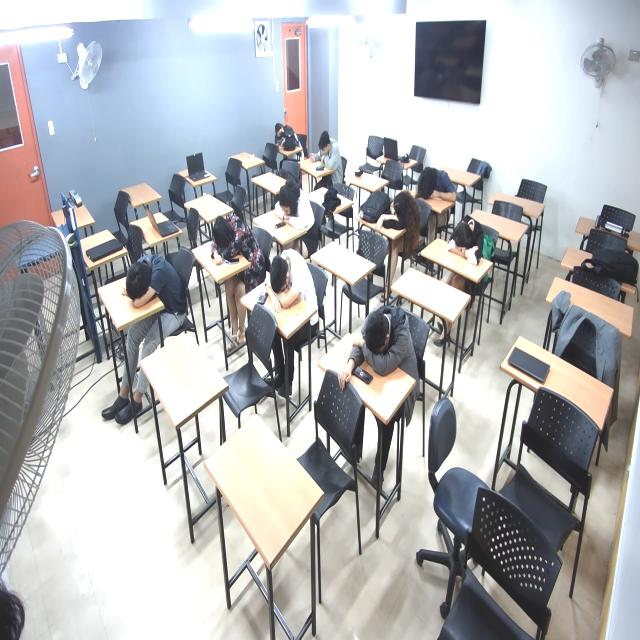sleep: (358, 304, 410, 379), (265, 245, 312, 317), (120, 252, 177, 311), (208, 213, 262, 273), (273, 181, 316, 233), (448, 215, 486, 267), (380, 191, 423, 236), (275, 124, 298, 152)
